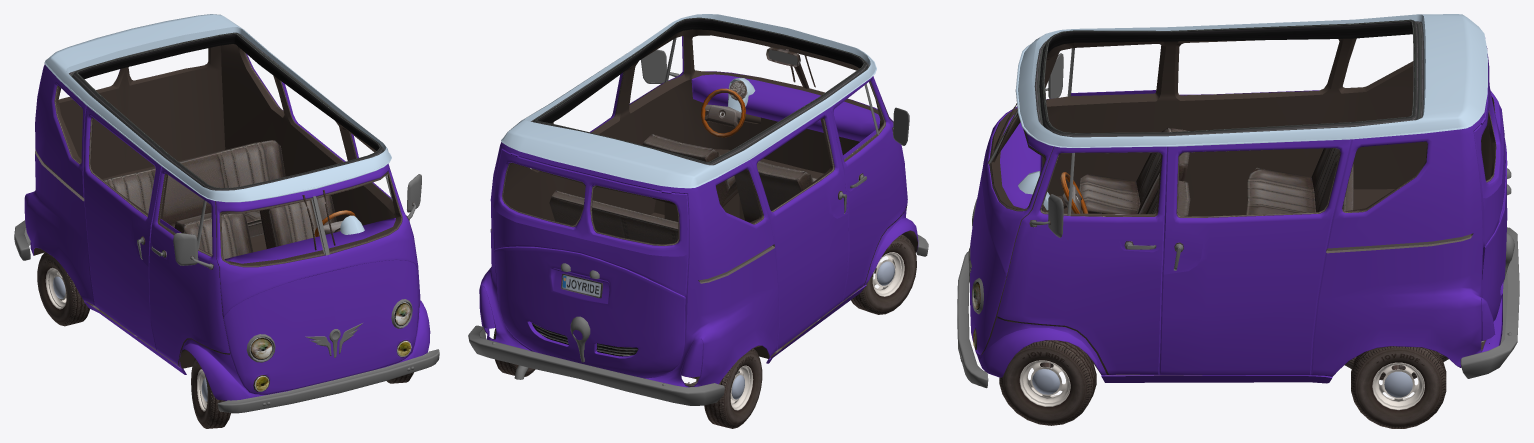
File: camper1.glb
The picture shows the model from 3 angles, left to right: view 1: azimuth 30°, elevation 25°; view 2: azimuth 150°, elevation 25°; view 3: azimuth 270°, elevation 25°; orthographic projection. The views are drawn at different scales.
Visible parts, largest first — view 1: node_id129, node_id131, node_id51, node_id133, node_id53, node_id46, node_id141, node_id96, node_id139, node_id118, node_id151, node_id98 (+6 smaller); view 2: node_id129, node_id131, node_id133, node_id48, node_id53, node_id51, node_id141, node_id82, node_id96, node_id79, node_id123, node_id93 (+10 smaller); view 3: node_id129, node_id131, node_id133, node_id51, node_id53, node_id154, node_id89, node_id141, node_id48, node_id158, node_id86, node_id46 (+5 smaller).
Boxes of the visible parts, bbox=[...] form: node_id129: bbox=[24, 14, 430, 400]; node_id131: bbox=[33, 44, 419, 394]; node_id51: bbox=[103, 140, 285, 237]; node_id133: bbox=[69, 32, 384, 190]; node_id53: bbox=[174, 195, 336, 259]; node_id46: bbox=[217, 349, 439, 413]; node_id141: bbox=[35, 52, 402, 267]; node_id96: bbox=[37, 255, 71, 322]; node_id139: bbox=[197, 174, 412, 362]; node_id118: bbox=[173, 233, 212, 269]; node_id151: bbox=[250, 302, 410, 359]; node_id98: bbox=[39, 252, 89, 326]; node_id129: bbox=[479, 14, 918, 387]; node_id131: bbox=[503, 29, 917, 358]; node_id133: bbox=[531, 17, 869, 165]; node_id48: bbox=[468, 325, 724, 405]; node_id53: bbox=[642, 134, 817, 222]; node_id51: bbox=[549, 190, 678, 244]; node_id141: bbox=[490, 36, 885, 283]; node_id82: bbox=[864, 238, 916, 311]; node_id96: bbox=[725, 351, 762, 425]; node_id79: bbox=[872, 252, 904, 296]; node_id123: bbox=[641, 49, 679, 83]; node_id93: bbox=[722, 365, 753, 410]; node_id129: bbox=[970, 14, 1507, 383]; node_id131: bbox=[975, 38, 1495, 374]; node_id133: bbox=[1034, 19, 1424, 137]; node_id51: bbox=[1246, 148, 1353, 214]; node_id53: bbox=[1079, 127, 1190, 216]; node_id154: bbox=[1356, 346, 1441, 426]; node_id89: bbox=[1003, 344, 1087, 423]; node_id141: bbox=[989, 61, 1496, 253]; node_id48: bbox=[1460, 227, 1519, 378]; node_id158: bbox=[1372, 362, 1424, 410]; node_id86: bbox=[1019, 360, 1070, 406]; node_id46: bbox=[957, 251, 988, 388].
Bounding box in the file's own units: 0.512 × 0.4885 × 0.8131.
Materials: 56 (56 with a texture image).
